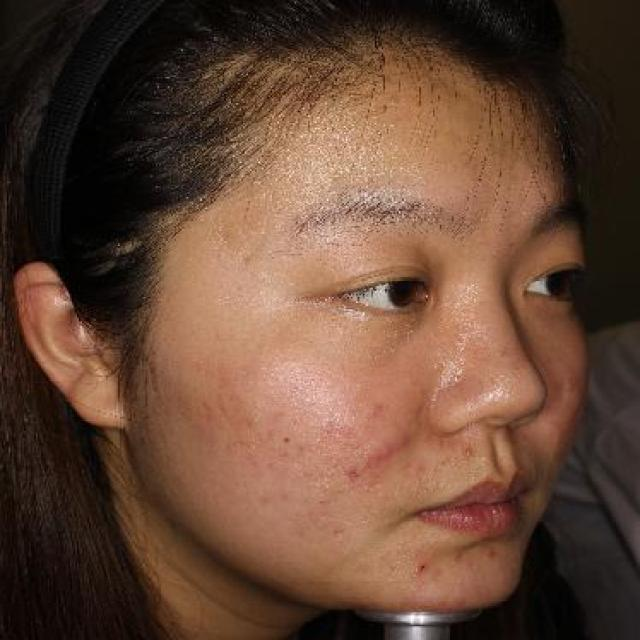Acne: (330, 458, 361, 489), (452, 437, 484, 466), (481, 542, 503, 563)
Blackheads: (404, 552, 436, 588), (276, 431, 301, 451)
